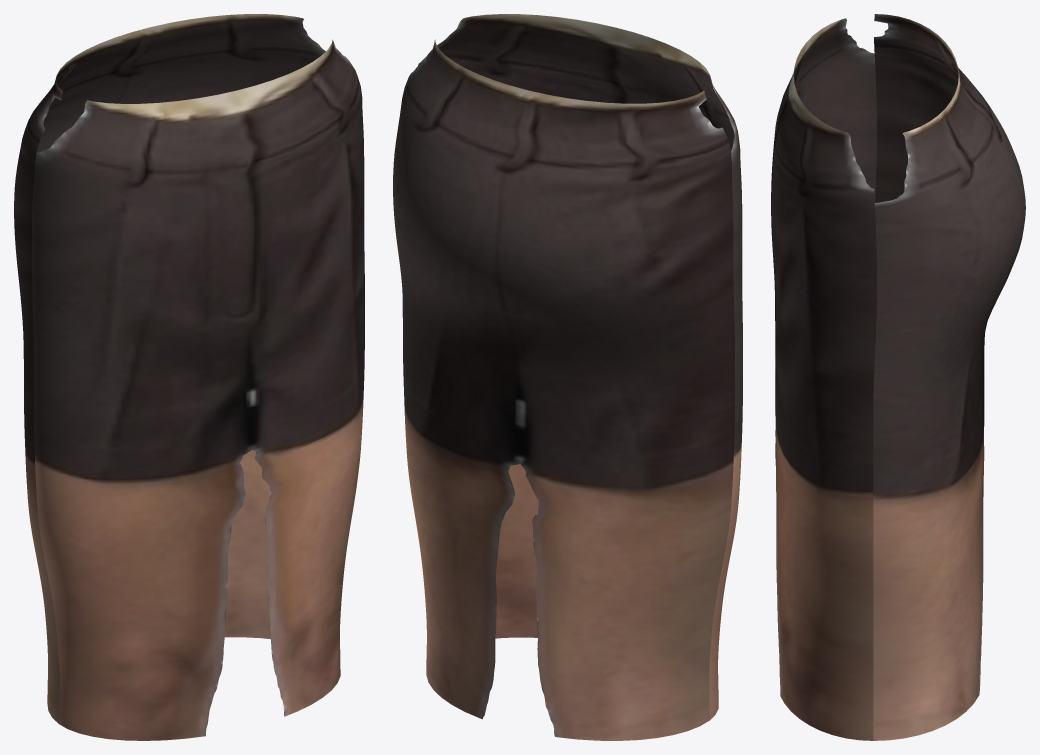
The model's file is prod-ae-espresso-tailored-shorts.glb.
3 views of the same model, side by side, from view 1: azimuth 30°, elevation 25°; view 2: azimuth 150°, elevation 25°; view 3: azimuth 270°, elevation 25° (orthographic). The views are drawn at different scales.
Parts seen in each view (by area): view 1: prod-ae-espresso-tailored-shorts; view 2: prod-ae-espresso-tailored-shorts; view 3: prod-ae-espresso-tailored-shorts.
Boxes of the visible parts, bbox=[...] form: prod-ae-espresso-tailored-shorts: bbox=[14, 14, 364, 740]; prod-ae-espresso-tailored-shorts: bbox=[393, 14, 742, 740]; prod-ae-espresso-tailored-shorts: bbox=[771, 14, 1025, 740].
Size of the model in its own units: 0.2918 by 0.5443 by 0.2088.
Materials: 1 (1 with a texture image).
